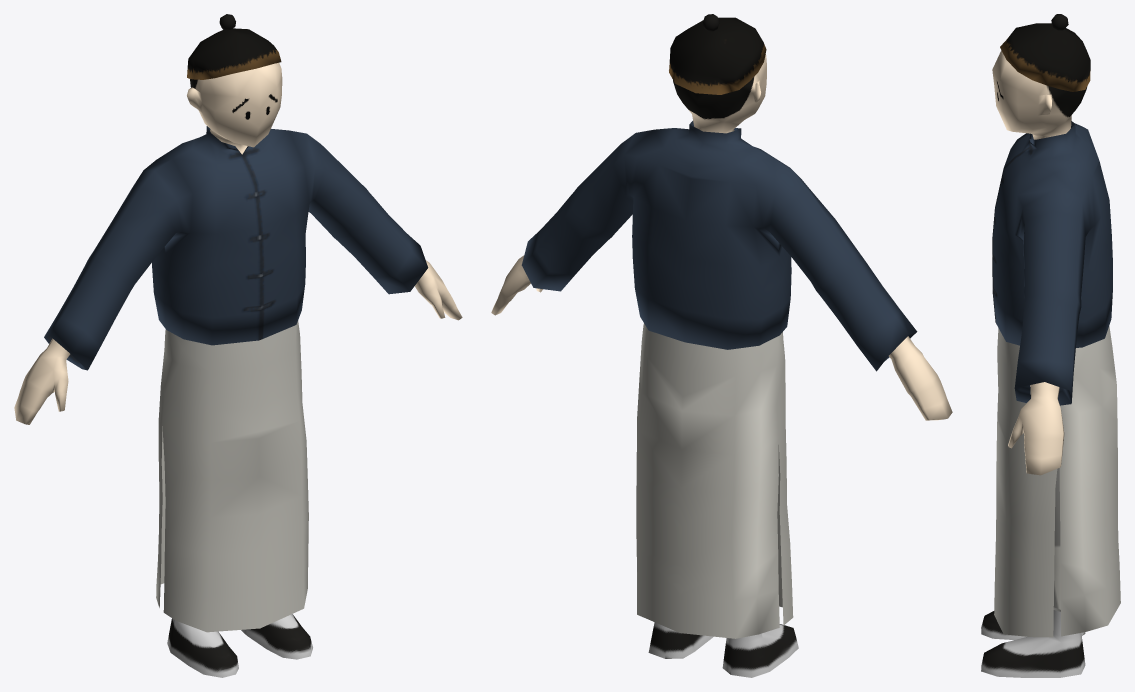
Rendered from ShopManMain.fbx.
3 renders of one model, left to right at view 1: azimuth 30°, elevation 25°; view 2: azimuth 150°, elevation 25°; view 3: azimuth 270°, elevation 25°, orthographic. The views are drawn at different scales.
Visible parts, largest first — view 1: Cloth, Long, Head, Foot, Hands, Hat; view 2: Cloth, Long, Hat, Foot, Hands, Head; view 3: Long, Cloth, Foot, Hat, Head, Hands.
Part boxes in pixels (x1,y1,x2,y2): Cloth: [44, 126, 428, 370]; Long: [156, 320, 308, 632]; Head: [187, 62, 282, 154]; Foot: [167, 614, 312, 677]; Hands: [14, 260, 462, 424]; Hat: [187, 14, 281, 79]; Cloth: [521, 121, 917, 371]; Long: [636, 323, 793, 638]; Hat: [669, 14, 766, 94]; Foot: [648, 622, 798, 677]; Hands: [491, 255, 952, 420]; Head: [669, 54, 766, 133]; Long: [994, 326, 1120, 637]; Cloth: [992, 121, 1112, 405]; Foot: [981, 468, 1085, 677]; Hat: [1000, 14, 1090, 91]; Head: [992, 50, 1087, 139]; Hands: [1008, 382, 1064, 475].
Bounding box in the file's own units: 129 × 174 × 34.67.
Materials: 2 (2 with a texture image).
